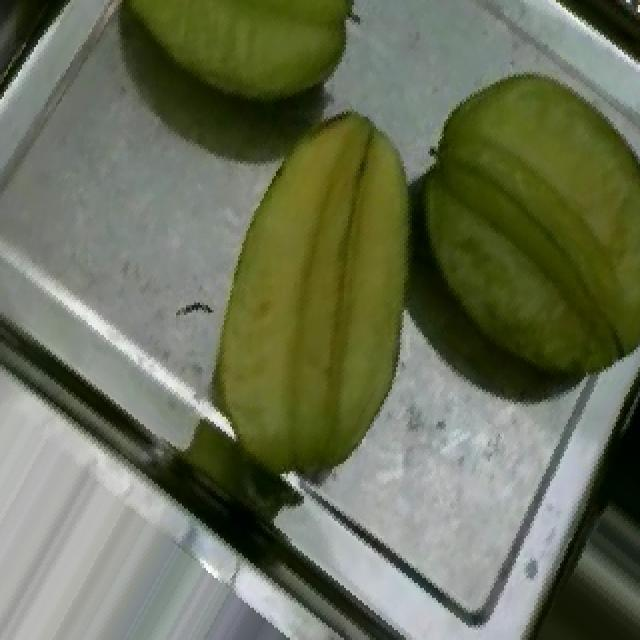fruit: (190, 74, 520, 506), (392, 27, 640, 412), (80, 0, 392, 164)
